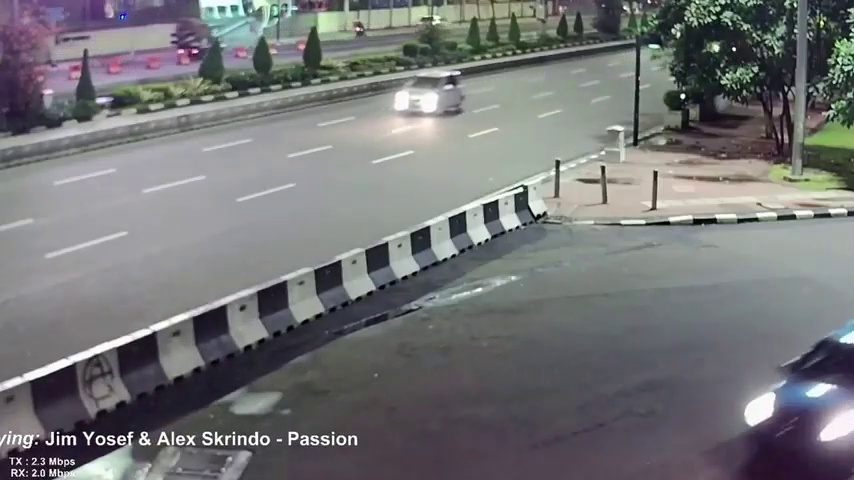car: (391, 66, 465, 115)
